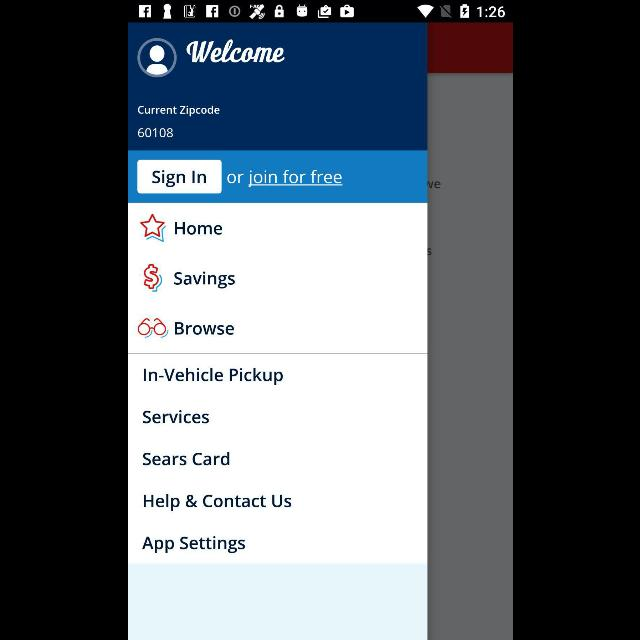icon: (136, 38, 176, 78), (139, 214, 165, 242)
image: (136, 318, 168, 338), (142, 264, 162, 292)
panel: (128, 22, 426, 640)
text: (143, 493, 291, 511), (142, 368, 282, 386), (186, 40, 284, 62), (226, 170, 342, 188), (142, 536, 245, 554), (143, 452, 230, 466), (173, 271, 234, 289), (137, 105, 219, 117), (142, 410, 208, 424), (174, 322, 233, 336), (174, 222, 222, 234), (138, 128, 172, 138)
textbutton: (137, 160, 221, 194)
uppertaskbar: (128, 1, 512, 23)
